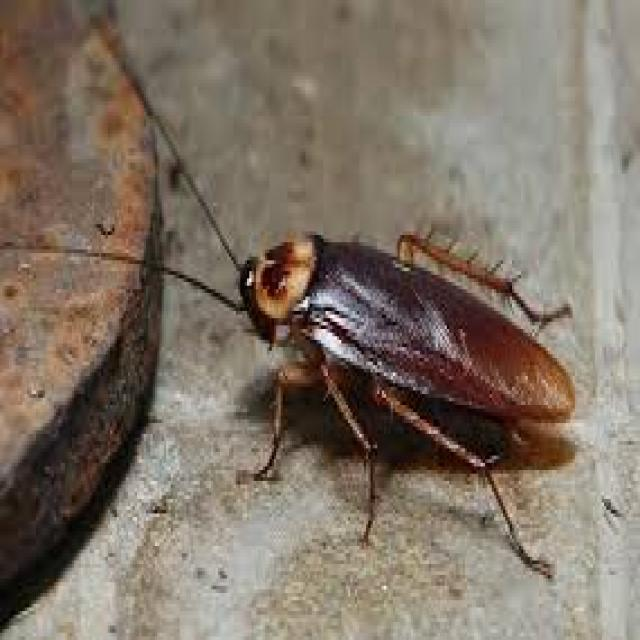Cockroach: (12, 21, 598, 590)
